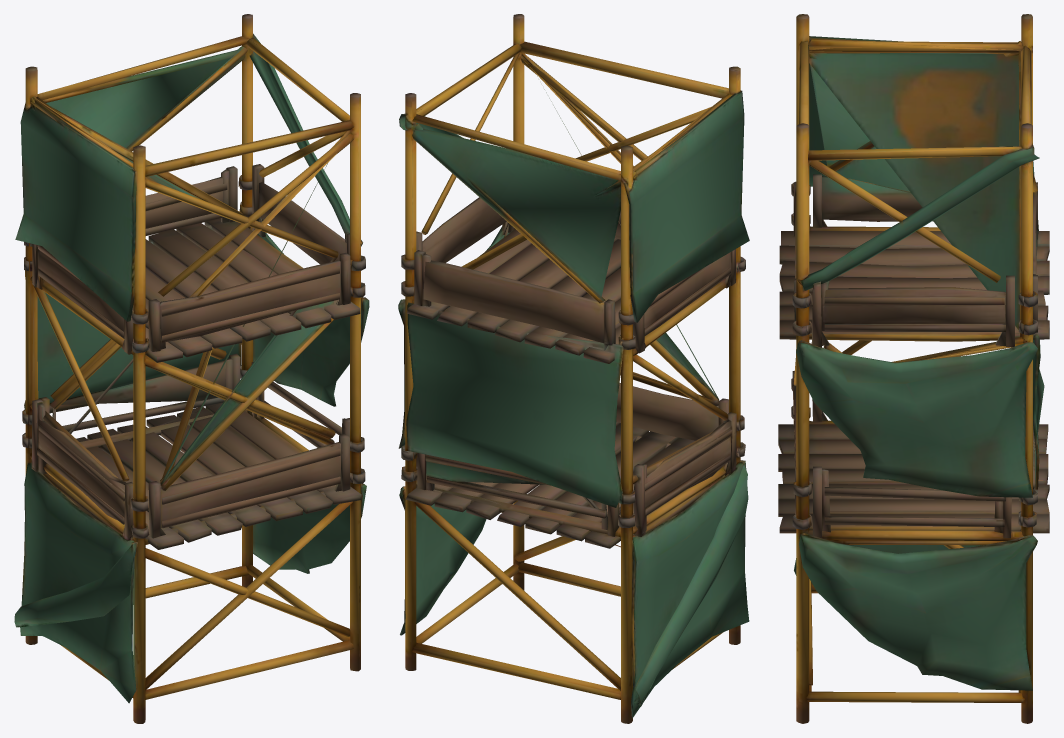
The model's file is andaime.glb.
3 renders of one model, left to right at view 1: azimuth 30°, elevation 25°; view 2: azimuth 150°, elevation 25°; view 3: azimuth 270°, elevation 25°, orthographic. The views are drawn at different scales.
Visible parts, largest first — view 1: Andaime de obra; view 2: Andaime de obra; view 3: Andaime de obra.
Part boxes in pixels (x1=…): Andaime de obra: x1=14, y1=14, x2=369, y2=723; Andaime de obra: x1=398, y1=14, x2=749, y2=723; Andaime de obra: x1=778, y1=14, x2=1049, y2=723.
Size of the model in its own units: 0.4512 by 0.998 by 0.4121.
1 material, 1 textured.
